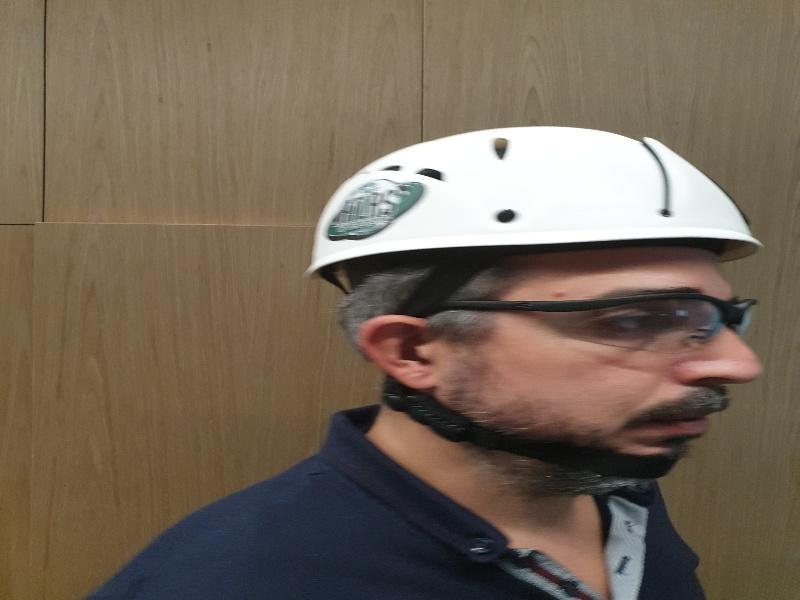Baret: (310, 125, 761, 262)
Gozluk: (441, 292, 765, 355)
